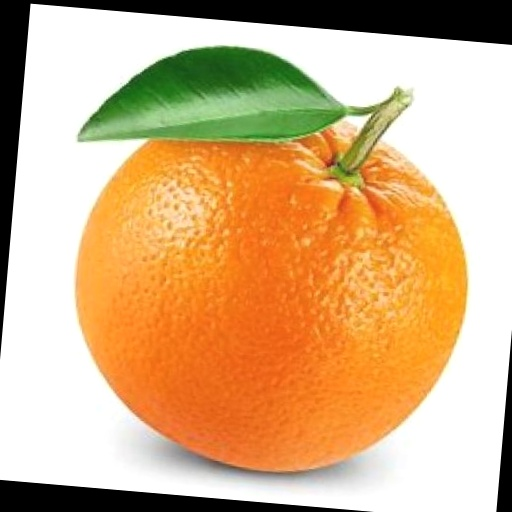fruit: (77, 124, 466, 471)
